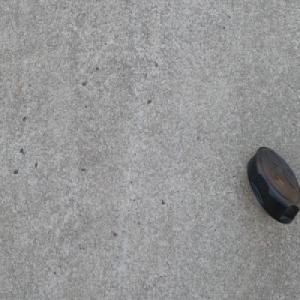FuelCap: (246, 145, 299, 224)
